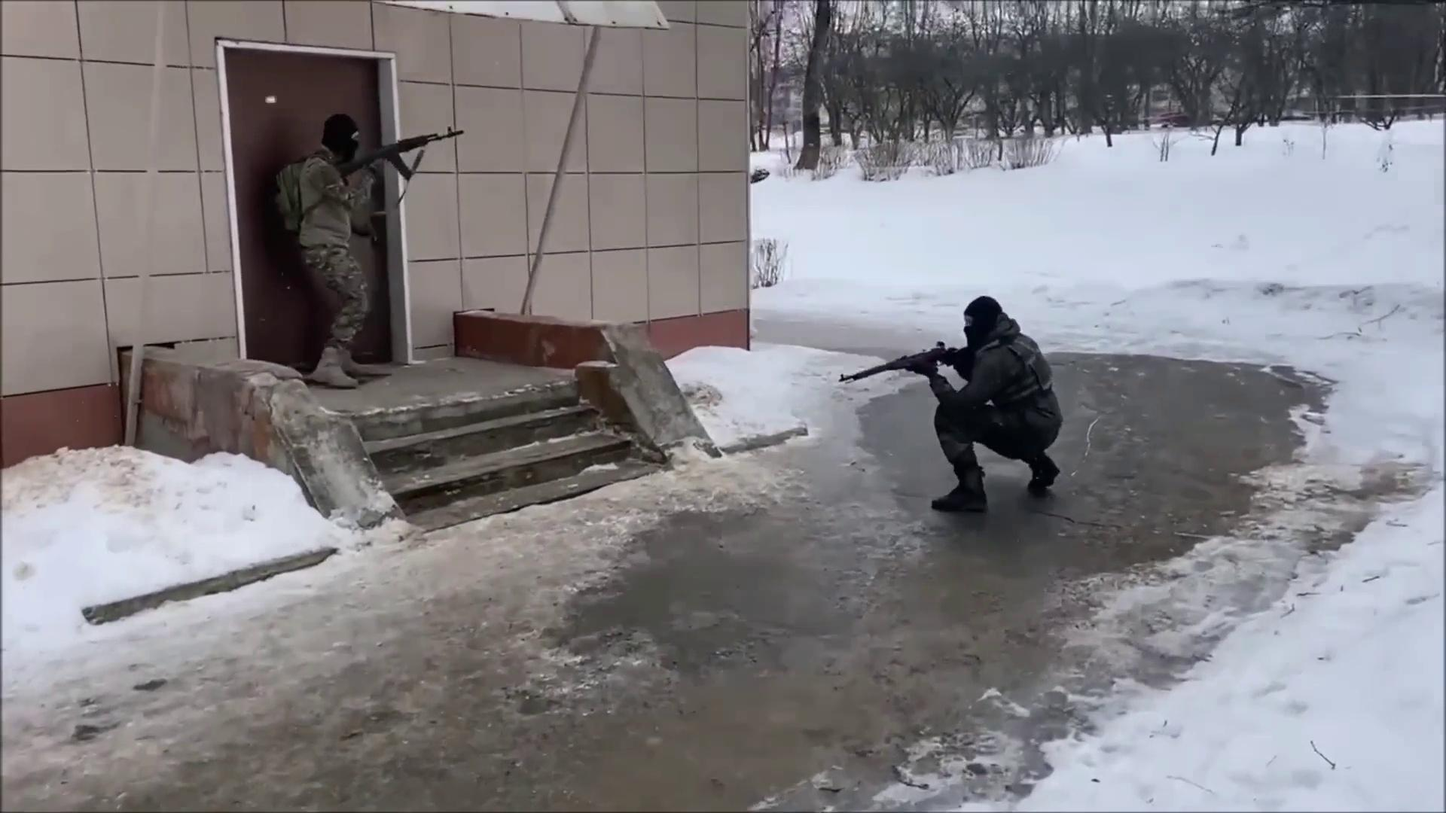person: (907, 294, 1065, 515), (271, 111, 390, 390)
rifle: (838, 338, 967, 388)
